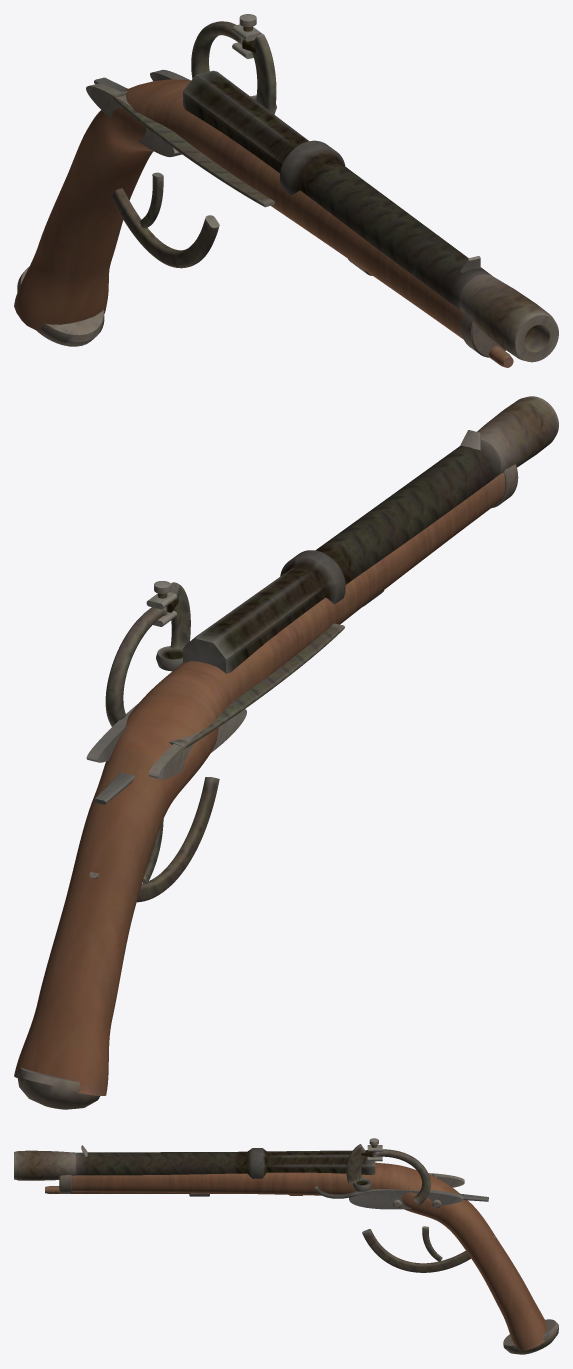
The model's file is flintknock.glb.
3 views of the same model, one above another, from view 1: azimuth 30°, elevation 25°; view 2: azimuth 150°, elevation 25°; view 3: azimuth 270°, elevation 25° (orthographic). The views are drawn at different scales.
Parts seen in each view (by area): view 1: flintknock_body, muzzle, hammer, trigger; view 2: flintknock_body, muzzle, hammer; view 3: flintknock_body, muzzle, hammer.
Boxes of the visible parts, x1,y1,x2,y2 form: flintknock_body: (14, 34, 513, 367); muzzle: (459, 274, 558, 362); hammer: (191, 14, 262, 78); trigger: (140, 172, 163, 228); flintknock_body: (14, 430, 518, 1109); muzzle: (477, 396, 558, 473); hammer: (105, 581, 178, 726); flintknock_body: (45, 1144, 558, 1354); muzzle: (14, 1150, 75, 1180); hammer: (361, 1138, 430, 1205).
Size of the model in its own units: 0.0632 by 0.2397 by 0.5281.
1 material, 1 textured.
